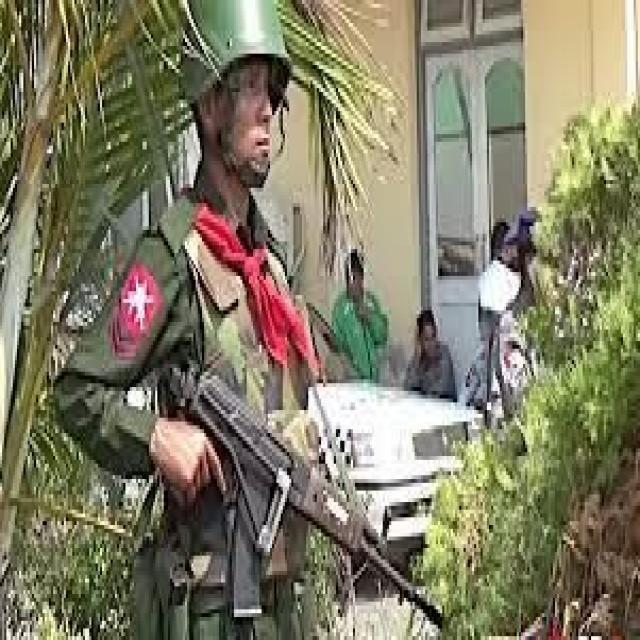gun: (157, 359, 442, 626)
